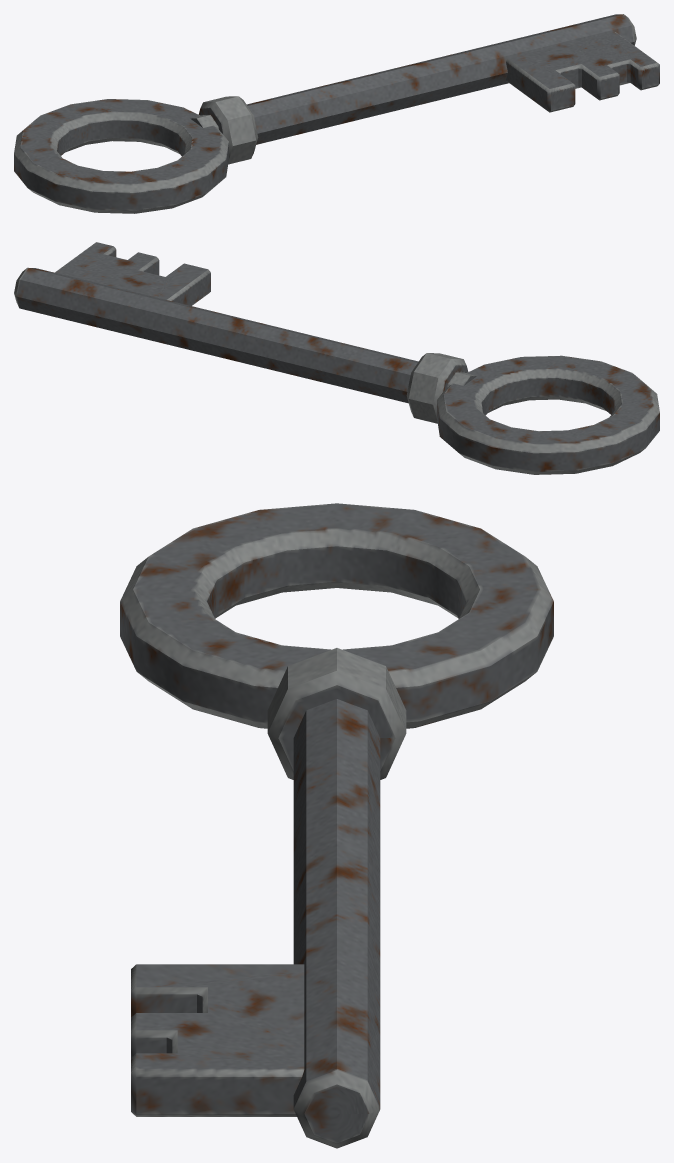
File: llave.glb
3 renders of one model, top to bottom at view 1: azimuth 30°, elevation 25°; view 2: azimuth 150°, elevation 25°; view 3: azimuth 270°, elevation 25°, orthographic. The views are drawn at different scales.
Visible parts, largest first — view 1: Llave; view 2: Llave; view 3: Llave.
Boxes of the visible parts, <box> form: Llave: <box>14,14,659,213</box>; Llave: <box>14,242,659,474</box>; Llave: <box>120,503,553,1148</box>.
Size of the model in its own units: 0.064 by 0.0064 by 0.02.
1 material, 1 textured.
